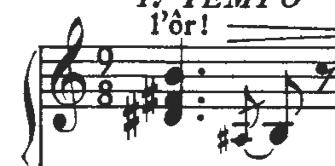treble_clef: (43, 11, 93, 143)
